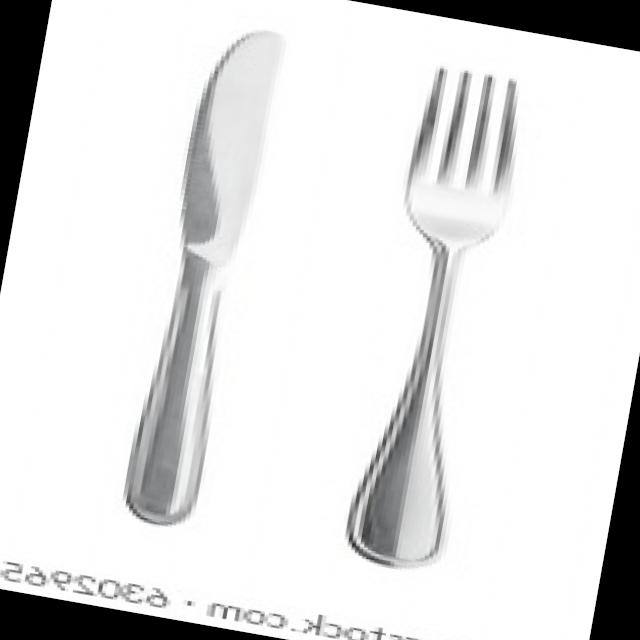fork: (334, 61, 536, 578)
